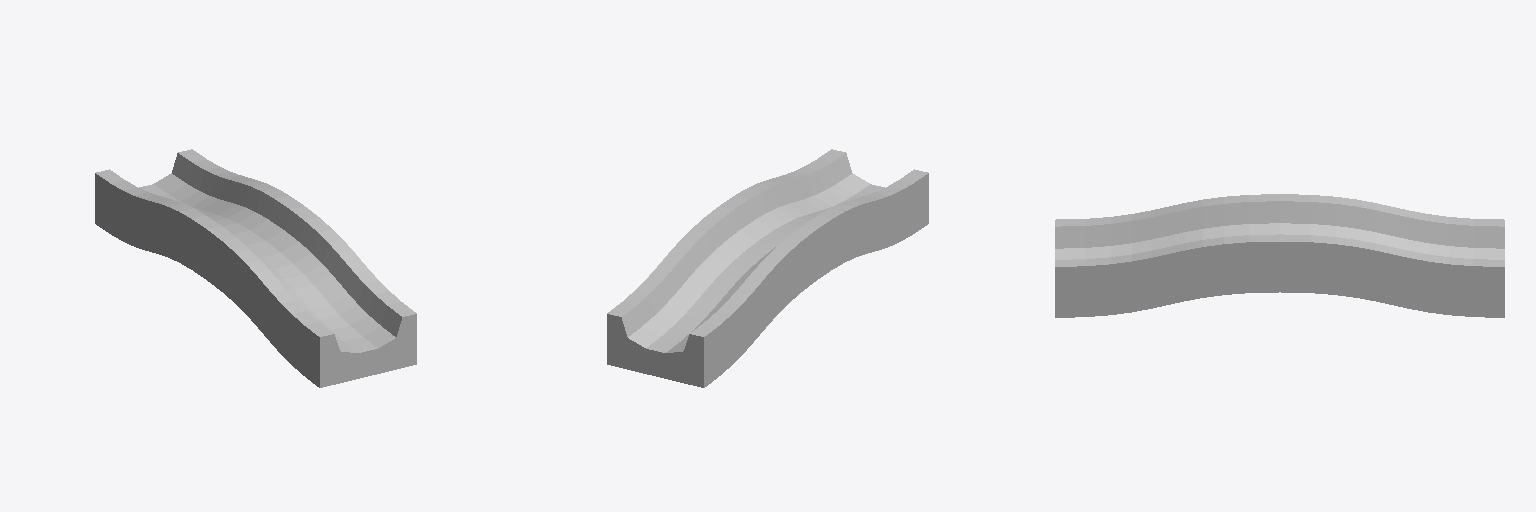
The model's file is bump-a.obj.
3 renders of one model, left to right at view 1: azimuth 30°, elevation 25°; view 2: azimuth 150°, elevation 25°; view 3: azimuth 270°, elevation 25°, orthographic.
Parts seen in each view (by area): view 1: bump-a; view 2: bump-a; view 3: bump-a.
Part boxes in pixels (left/top/right/bottom): bump-a: left=95, top=149, right=416, bottom=387; bump-a: left=607, top=149, right=928, bottom=387; bump-a: left=1055, top=194, right=1504, bottom=317.
Bounding box in the file's own units: 1 × 0.75 × 4.